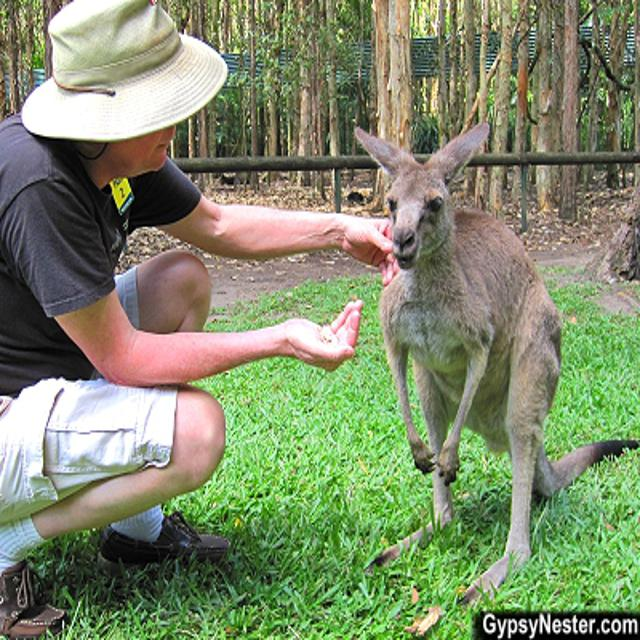kangaroo: (347, 122, 569, 586)
